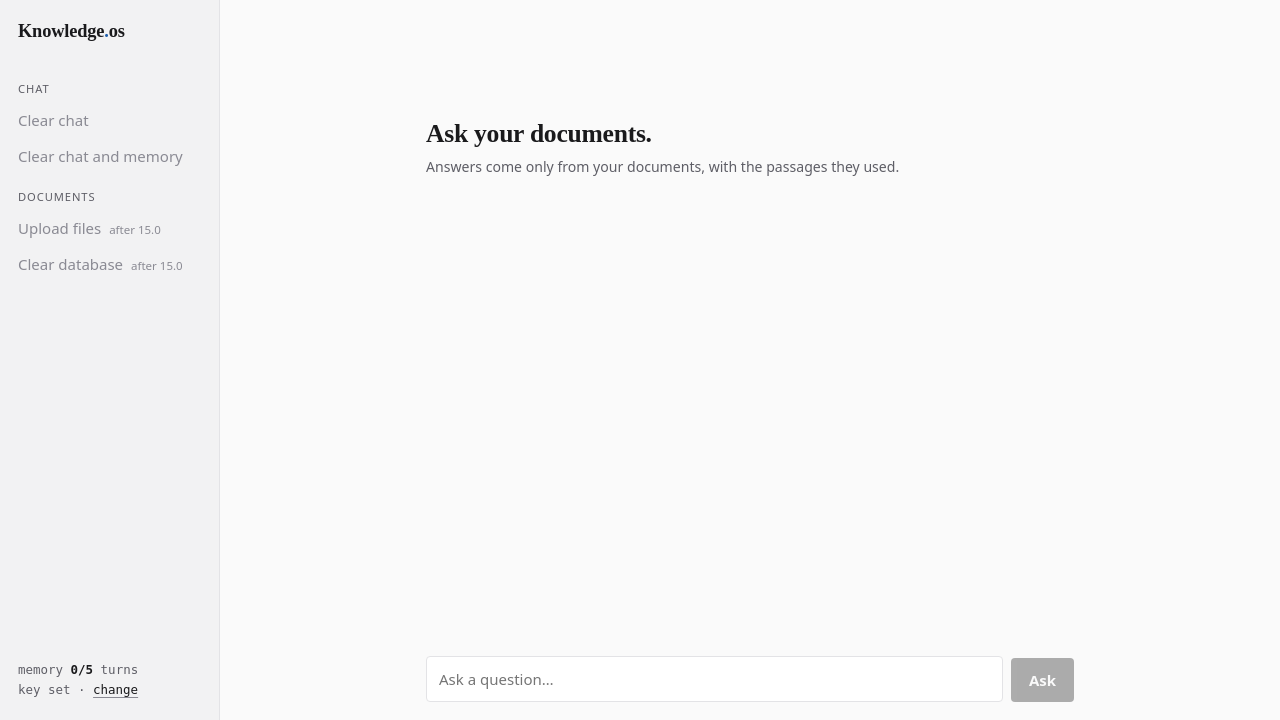
App › sends a thumb at once, then an optional comment for this request ID
The width and height of the screenshot is (1280, 720).
Type "How do I change a tyre?" into the text box labelled "question" at [714, 679], box x1=426 y1=656 x2=1003 y2=702
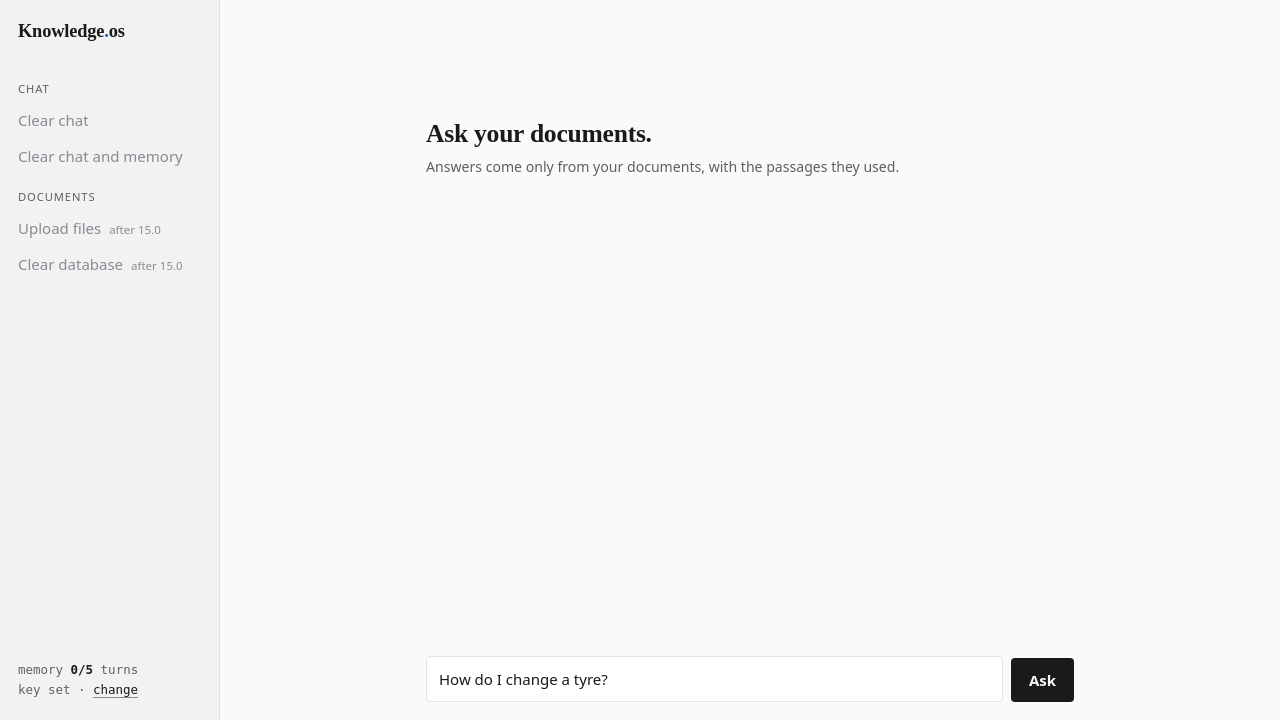
Click the button "Ask" at [1042, 680], box x1=1011 y1=658 x2=1074 y2=702
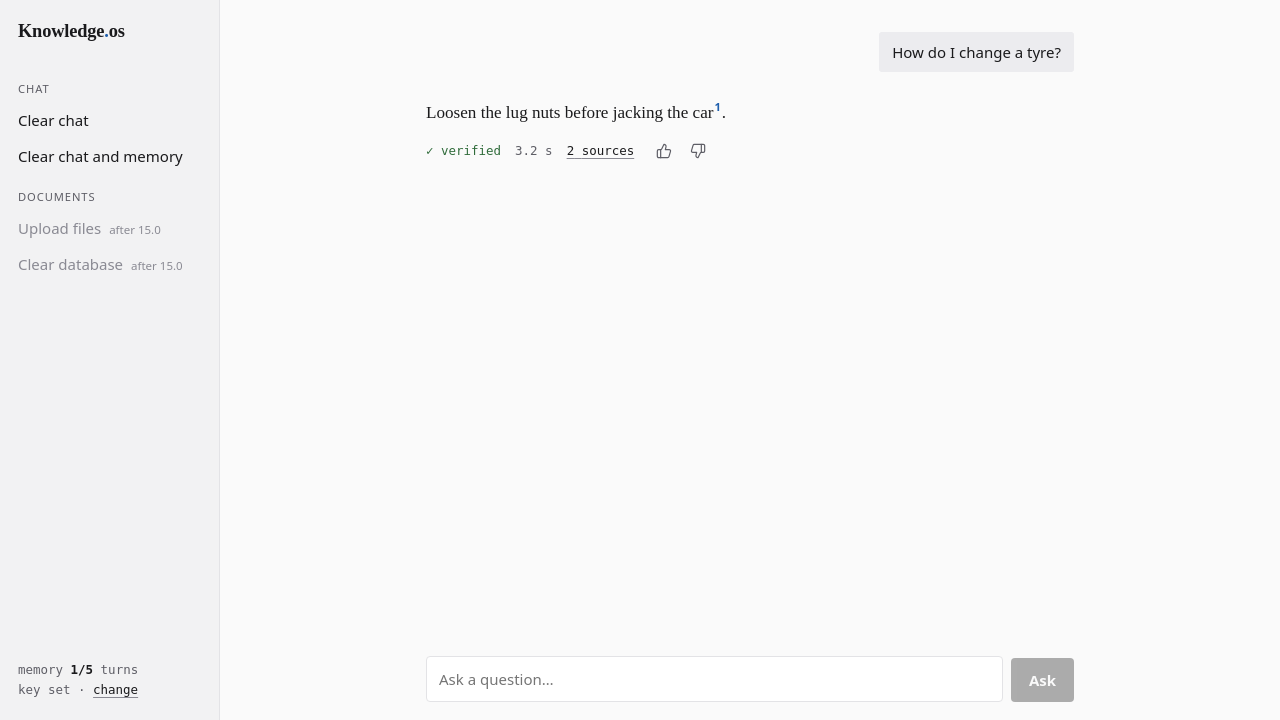
Click the button named "Not helpful" at [698, 151], box x1=682 y1=135 x2=714 y2=167
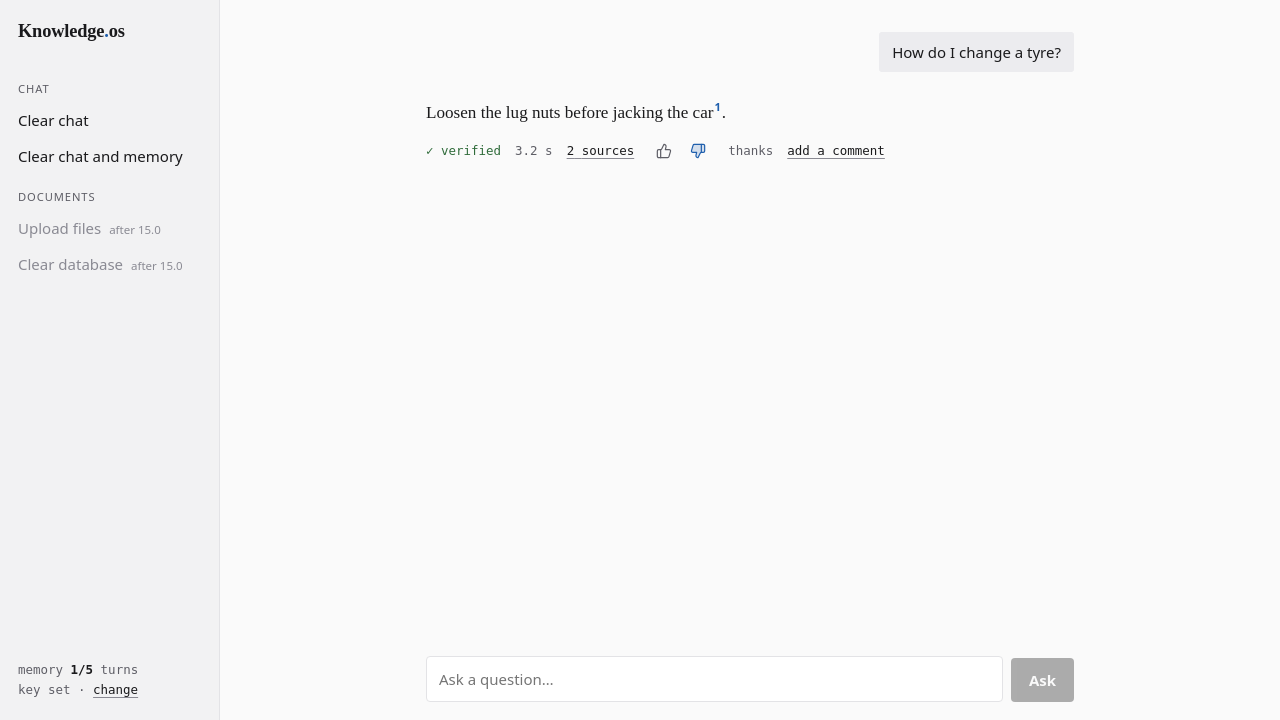
Check: the text "thanks" is shown, box x1=728 y1=141 x2=773 y2=161
Click the button "add a comment" at [836, 151], box x1=787 y1=141 x2=885 y2=161
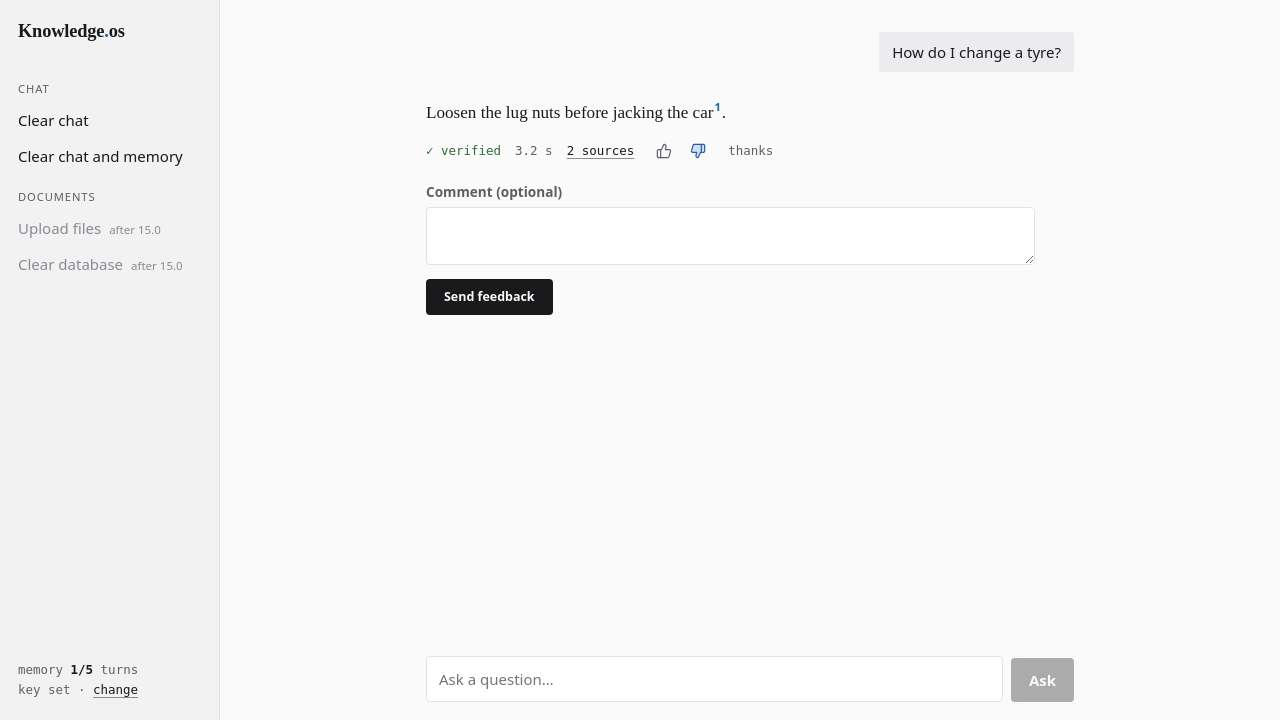
Type "  wrong torque  " into the text box labelled "Comment (optional)" at [731, 236], box x1=426 y1=207 x2=1035 y2=265
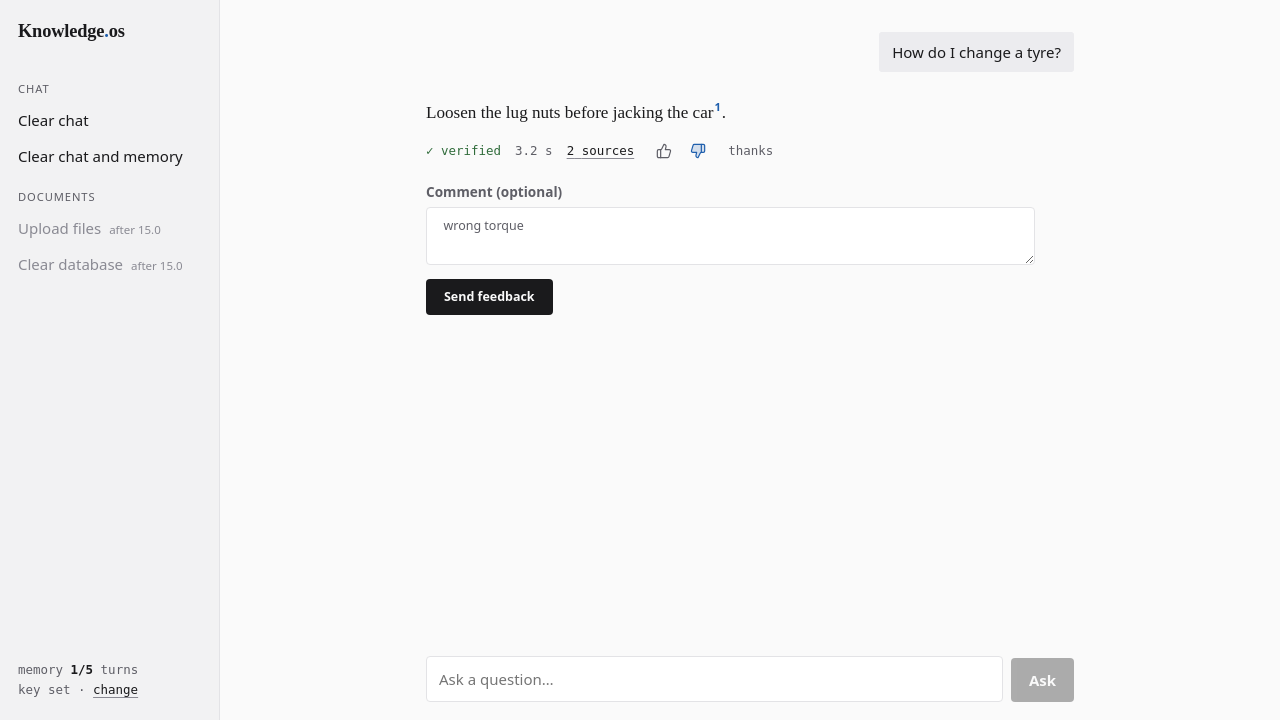
Click the button "Send feedback" at [489, 297], box x1=426 y1=279 x2=553 y2=315
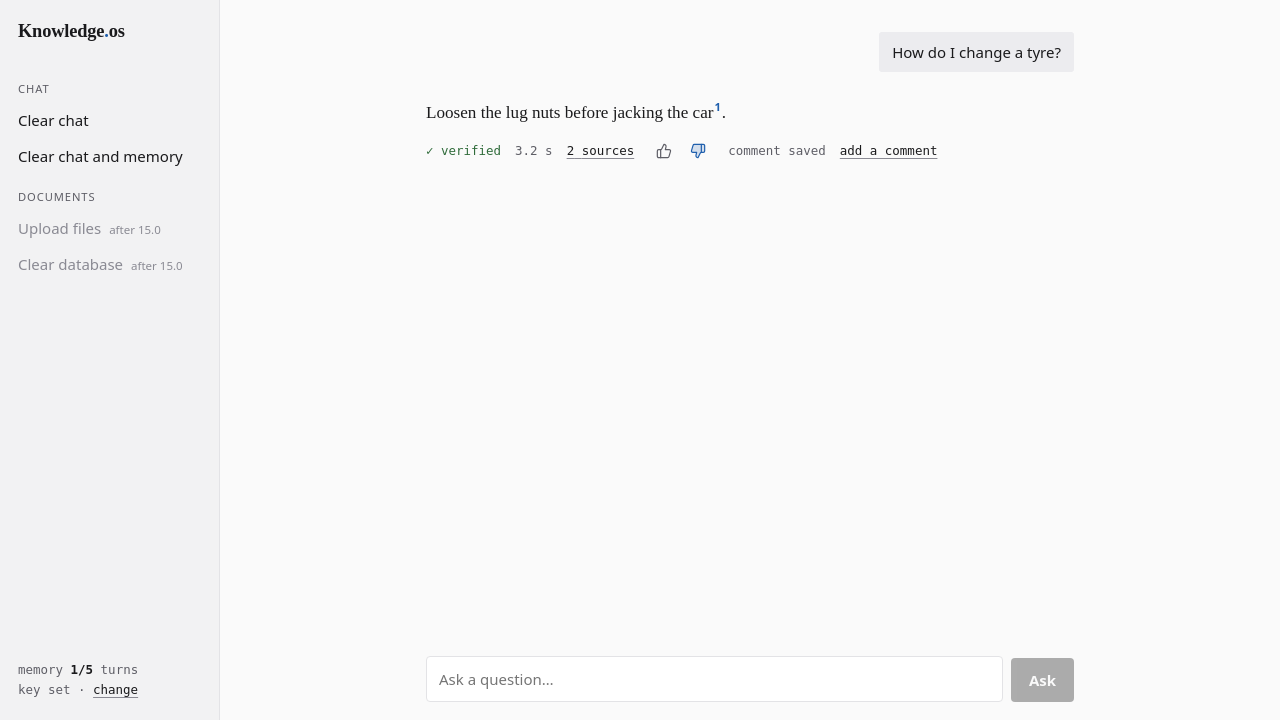
Check: the text "comment saved" is shown, box x1=728 y1=141 x2=826 y2=161
